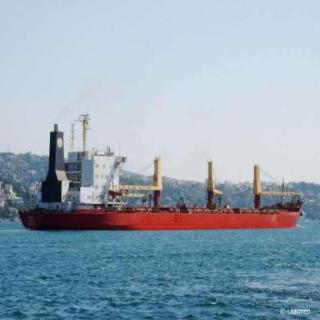Bulk Carrier: (13, 143, 303, 227)
